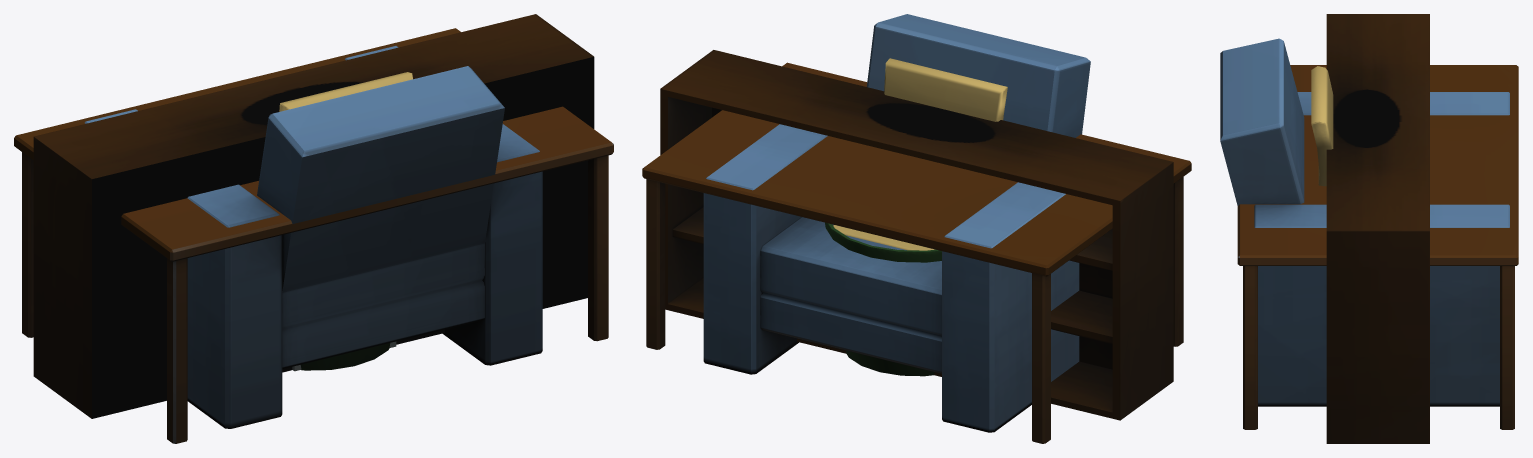
The model's file is roompieces02.fbx.
The picture shows the model from 3 angles, left to right: view 1: azimuth 30°, elevation 25°; view 2: azimuth 150°, elevation 25°; view 3: azimuth 270°, elevation 25°; orthographic projection. The views are drawn at different scales.
Visible parts, largest first — view 1: sofaChair, bookShelf, table, chair, trash; view 2: sofaChair, bookShelf, table, chair, trash; view 3: bookShelf, sofaChair, table, chair.
Part boxes in pixels (x1,y1,x2,y2): sofaChair: (84, 46, 542, 428); bookShelf: (33, 14, 594, 418); table: (14, 28, 613, 443); chair: (279, 72, 412, 371); trash: (300, 343, 390, 370); sofaChair: (703, 14, 1090, 432); bookShelf: (660, 50, 1173, 420); table: (642, 62, 1191, 443); chair: (833, 58, 1007, 250); trash: (825, 222, 941, 376); bookShelf: (1326, 14, 1429, 443); sofaChair: (1220, 38, 1509, 406); table: (1237, 65, 1518, 429); chair: (1311, 66, 1333, 186).
Size of the model in its own units: 312 by 172 by 181.
